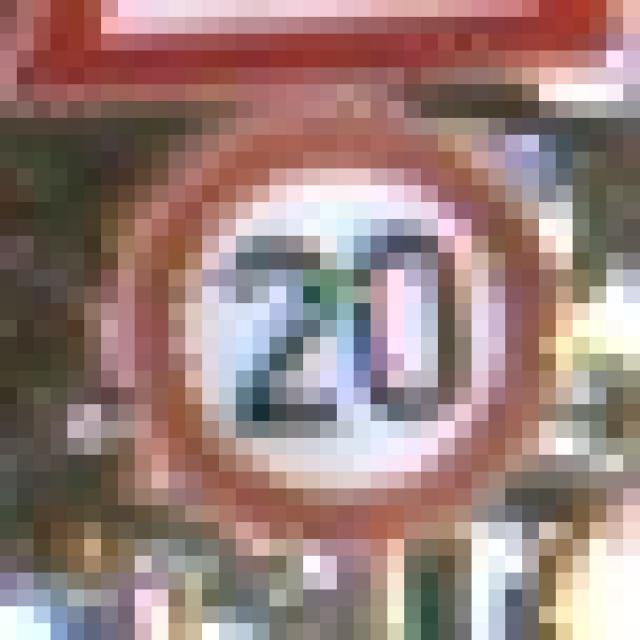Speed Limit -20-: (84, 101, 539, 556)
